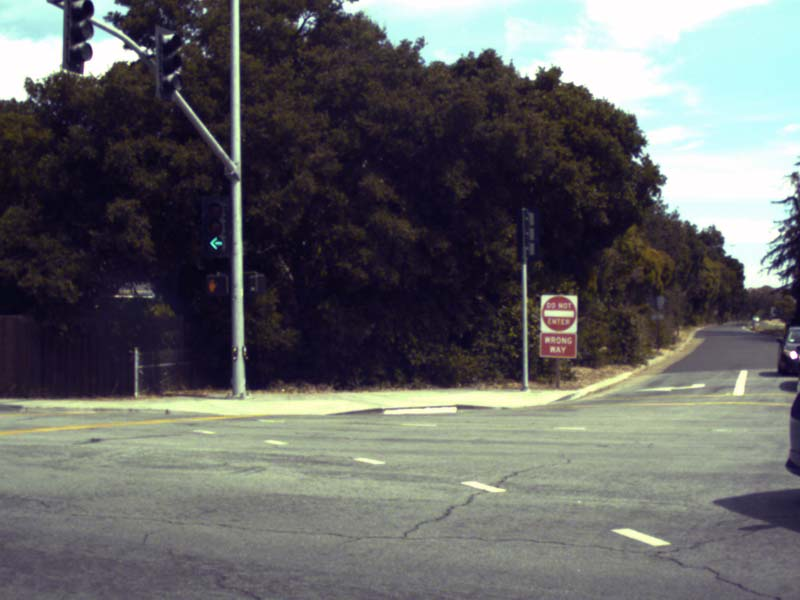Green: (201, 195, 231, 257)
